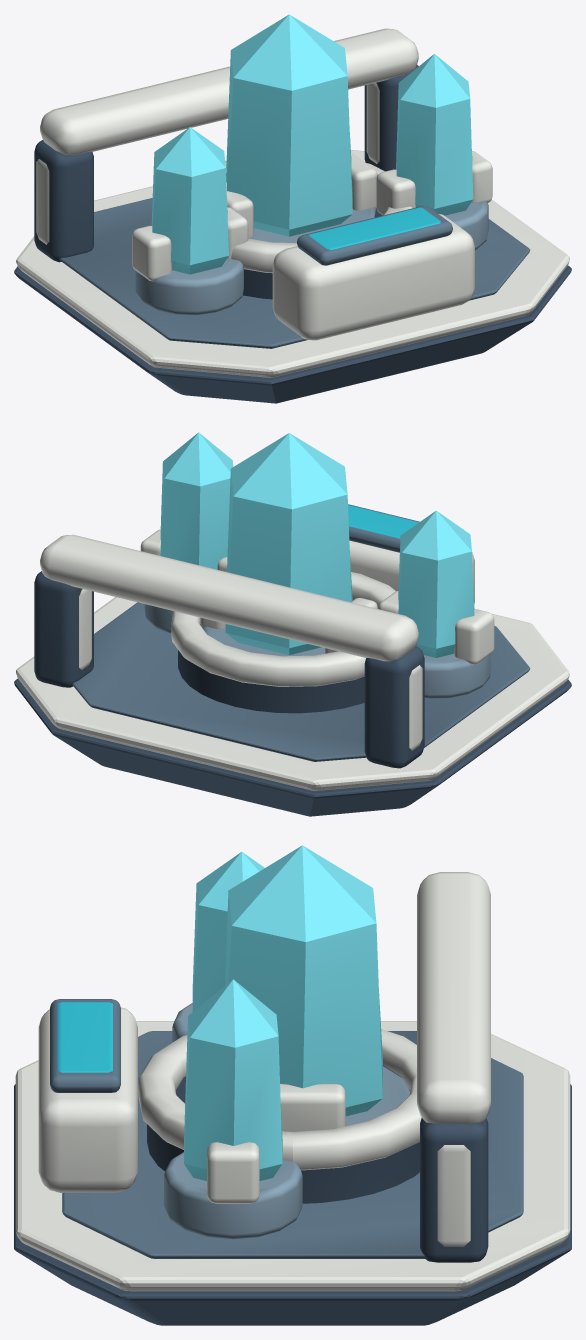
File: crystal_refinery_lv3.glb
3 renders of one model, top to bottom at view 1: azimuth 30°, elevation 25°; view 2: azimuth 150°, elevation 25°; view 3: azimuth 270°, elevation 25°, orthographic. The views are drawn at different scales.
Visible parts, largest first — view 1: Structure; view 2: Structure; view 3: Structure.
Part boxes in pixels (x1=…): Structure: x1=14, y1=14, x2=571, y2=403; Structure: x1=14, y1=432, x2=571, y2=816; Structure: x1=14, y1=845, x2=571, y2=1325.
Size of the model in its own units: 6.53 by 4.44 by 5.89.
